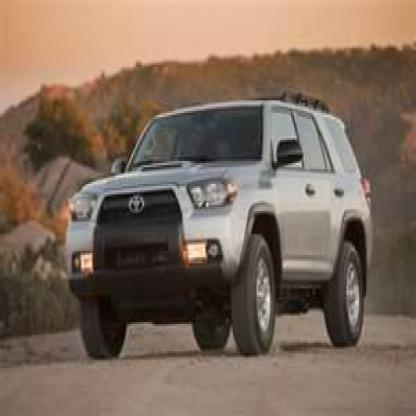Vehicle: (65, 94, 373, 366)
